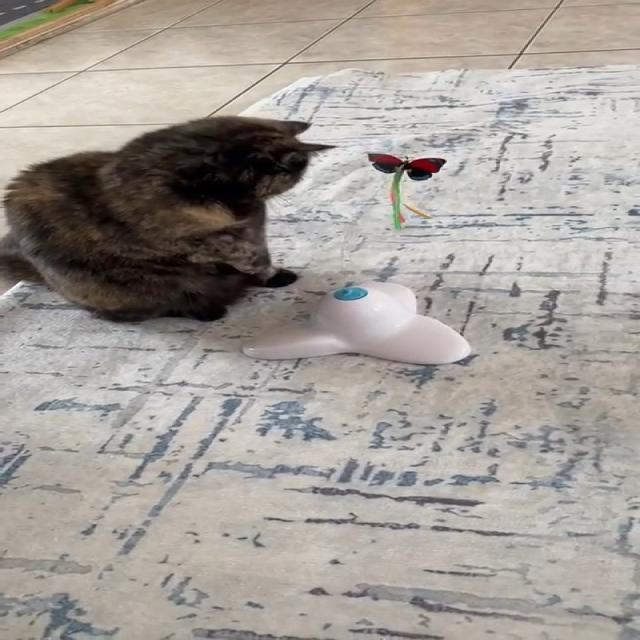authorized: (0, 114, 339, 323)
